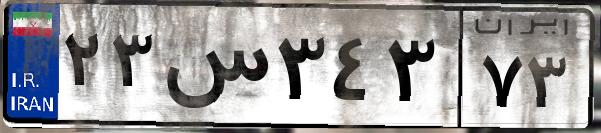2: (57, 26, 110, 100)
3: (270, 28, 330, 110), (385, 28, 445, 110), (525, 38, 570, 115), (110, 28, 158, 98)
4: (330, 28, 385, 110)
7: (475, 38, 525, 113)
س: (158, 20, 270, 120)
